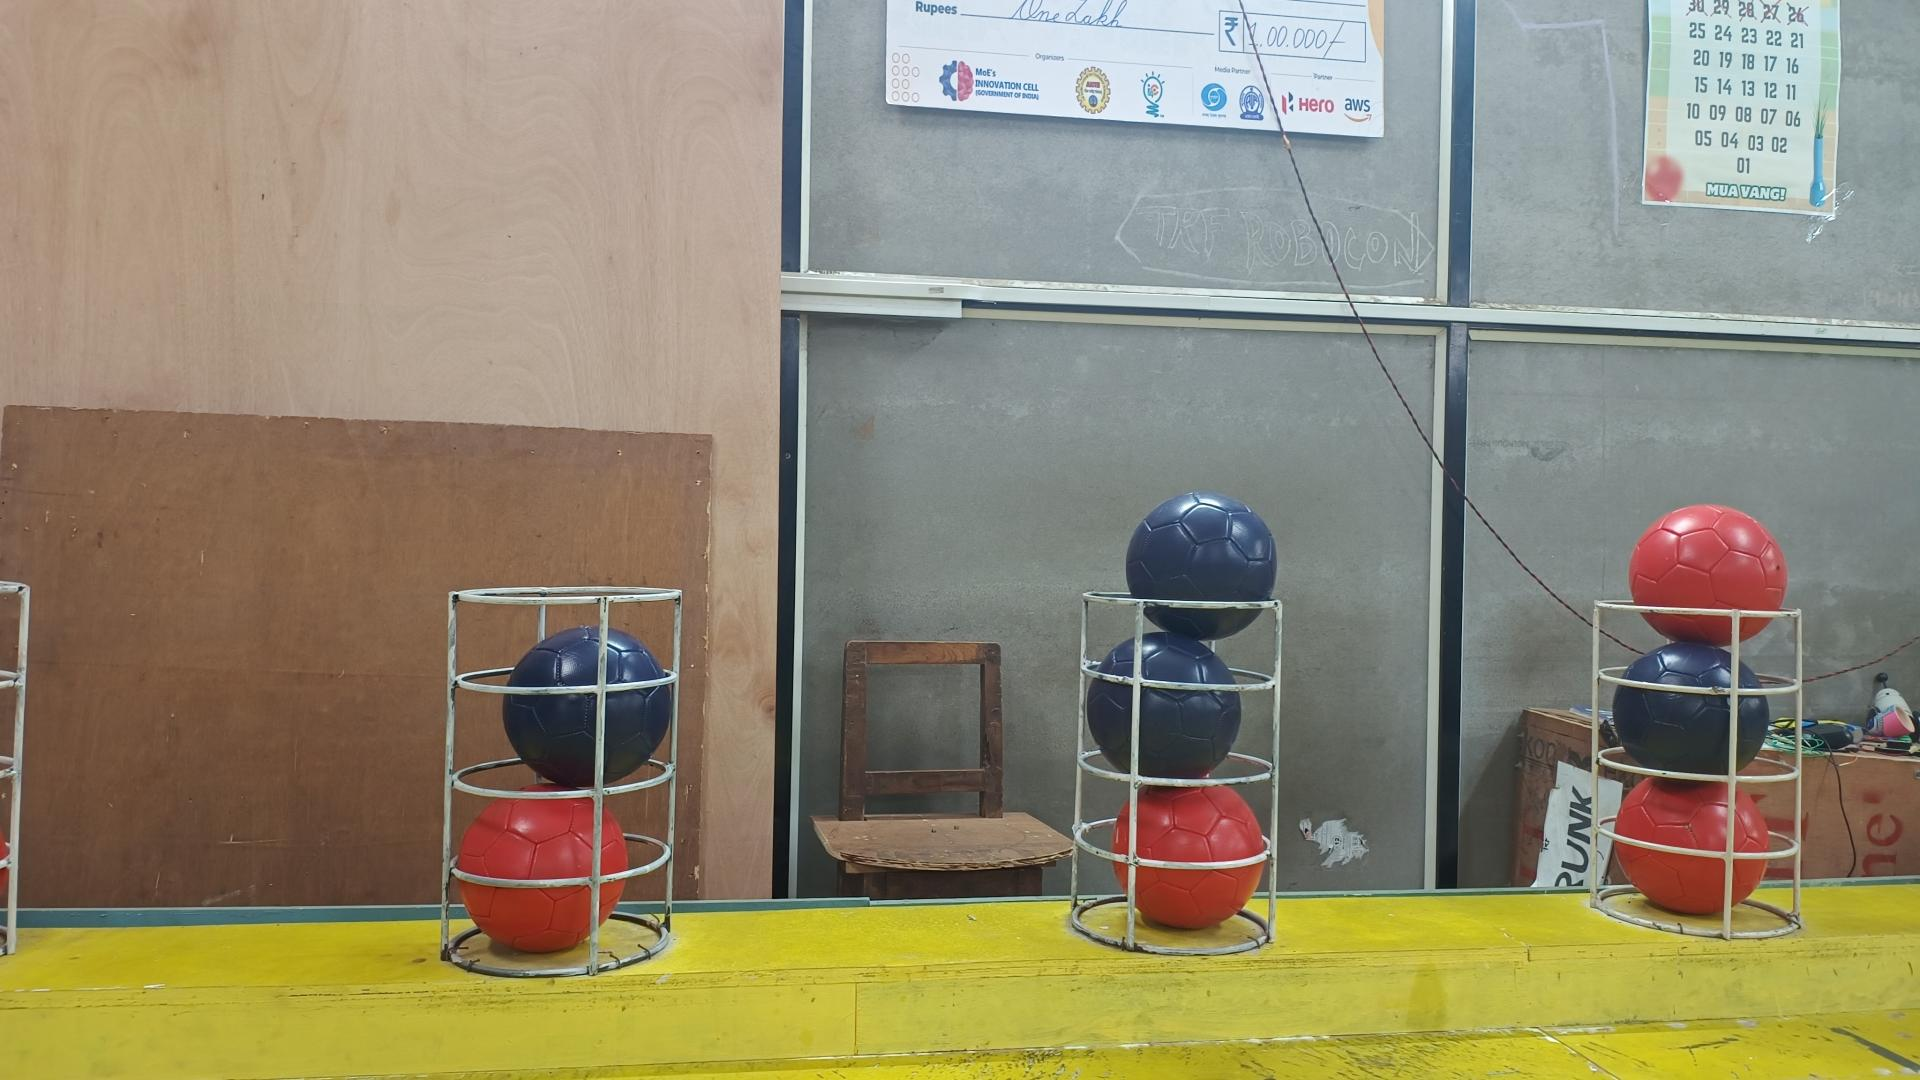dhoka: (502, 626, 671, 791), (1084, 630, 1241, 781), (1125, 492, 1279, 641), (1609, 641, 1770, 777)
laale: (454, 783, 630, 956), (1110, 783, 1267, 930), (1627, 506, 1788, 645), (1613, 777, 1770, 915)
